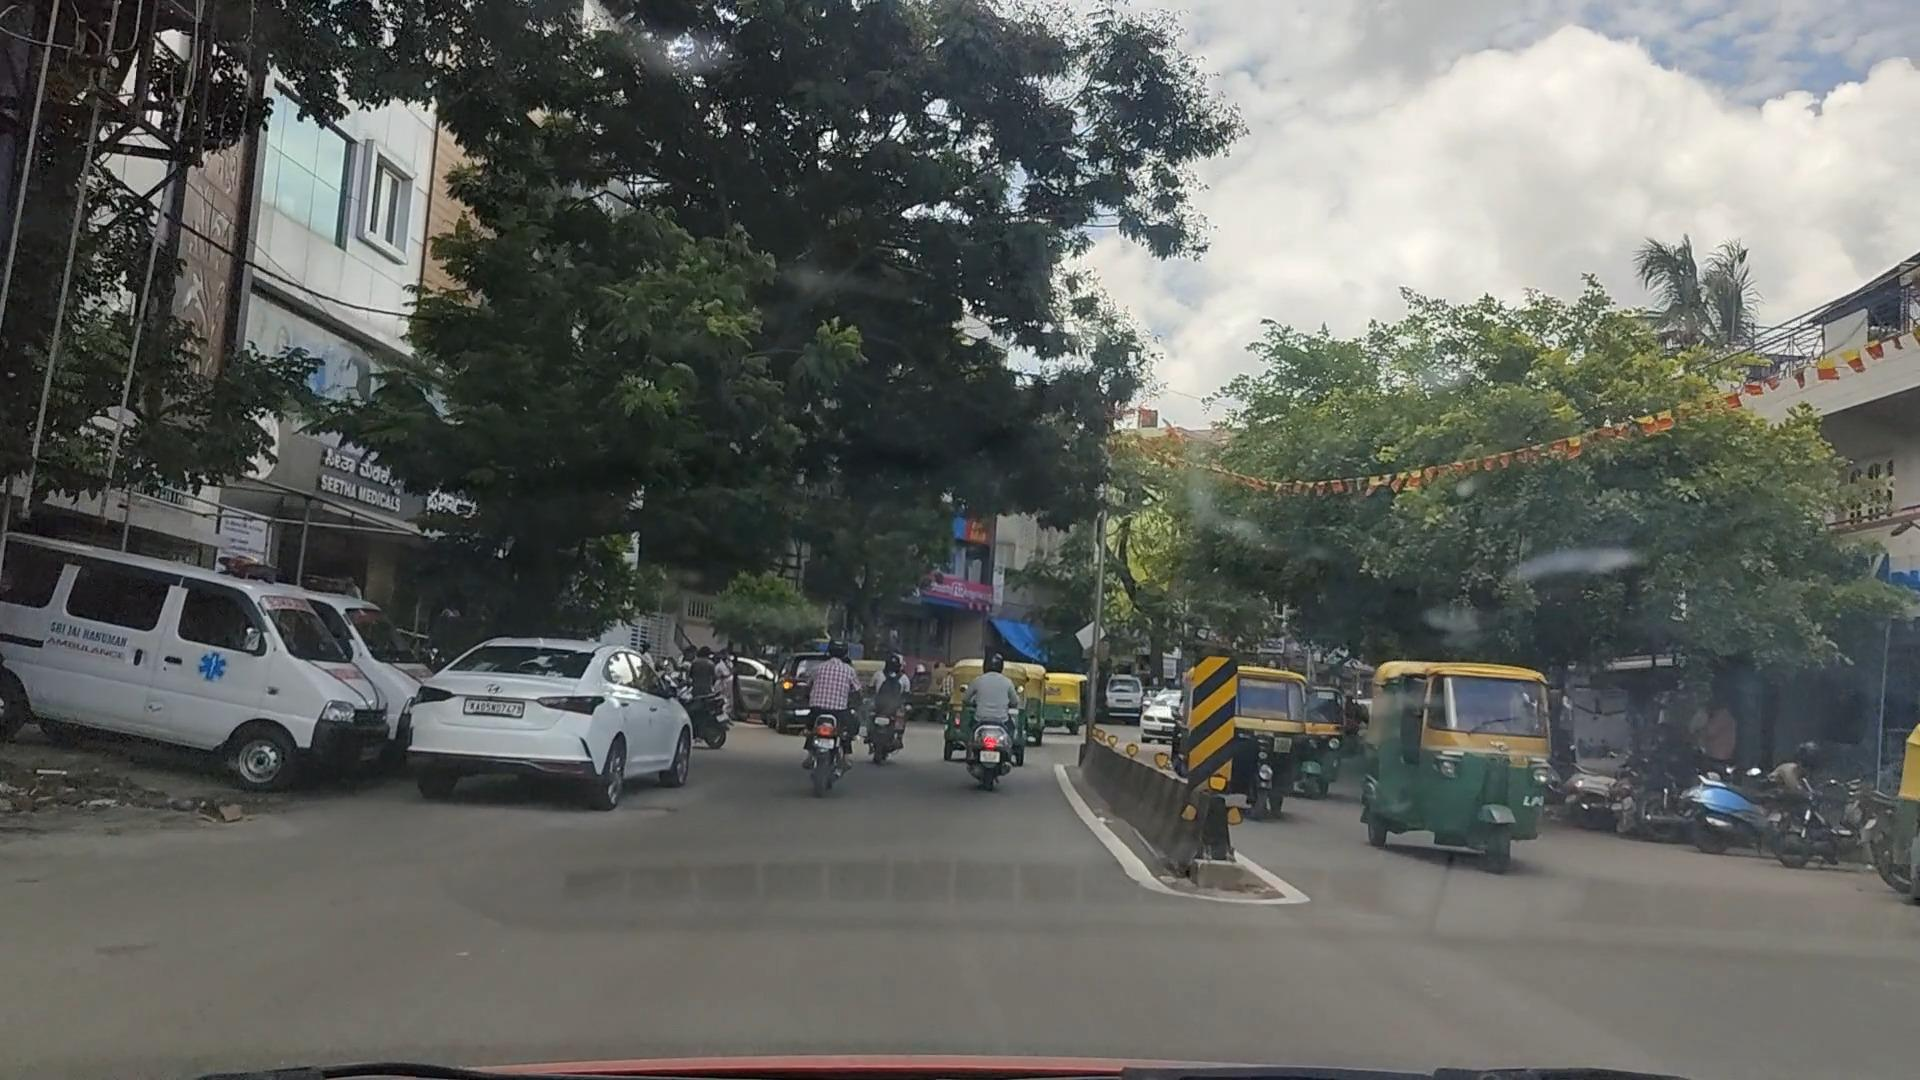LMV: (438, 621, 715, 828), (783, 638, 857, 796), (948, 653, 1030, 786)
